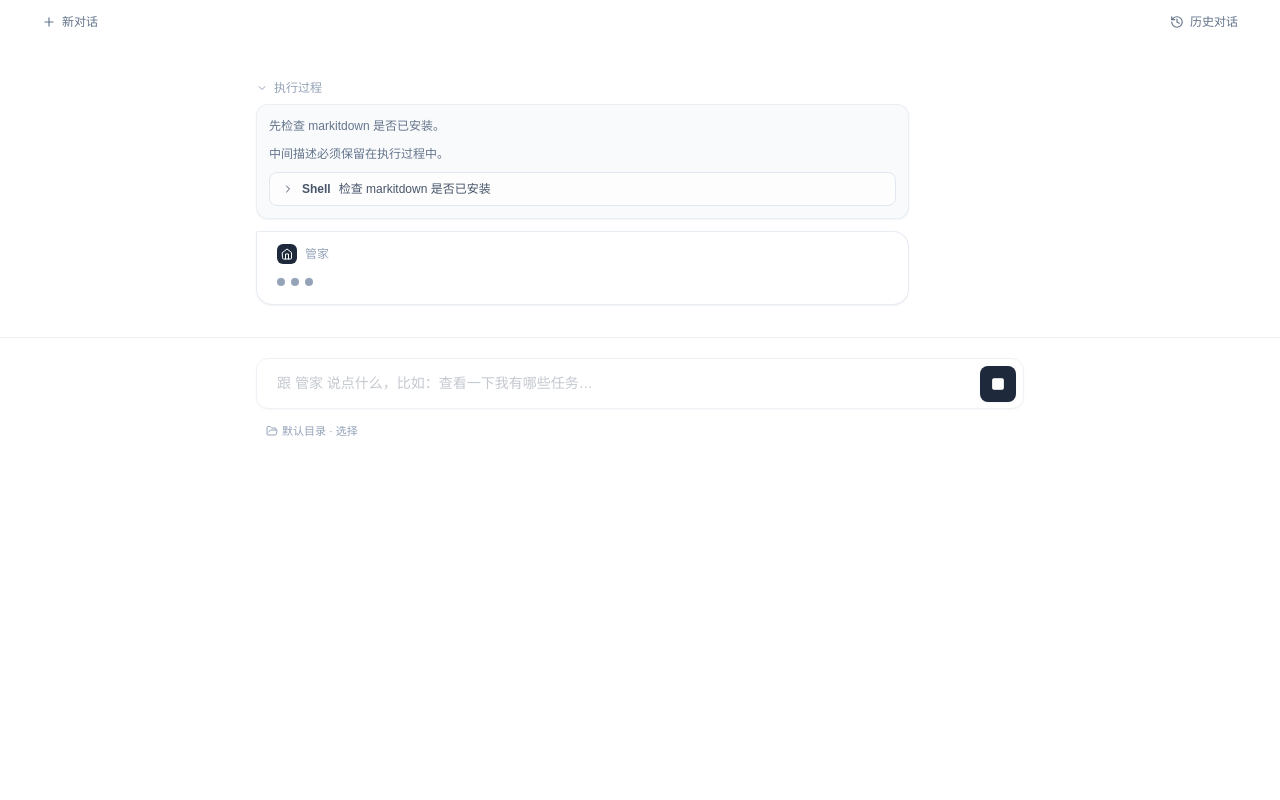
Test: ChatStream conversation initialization (Story 2.2 AC-2 / AC-7) › 流式 processEvent 使用历史执行过程同一格式展示描述和操作
Expected: the button "执行过程" is shown, [256,76,322,100]
Expected: the text "先检查 markitdown 是否已安装。" is shown, [269,119,445,133]
Click the button "Shell 检查 markitdown 是否已安装" at (415, 189), box [270,173,895,205]
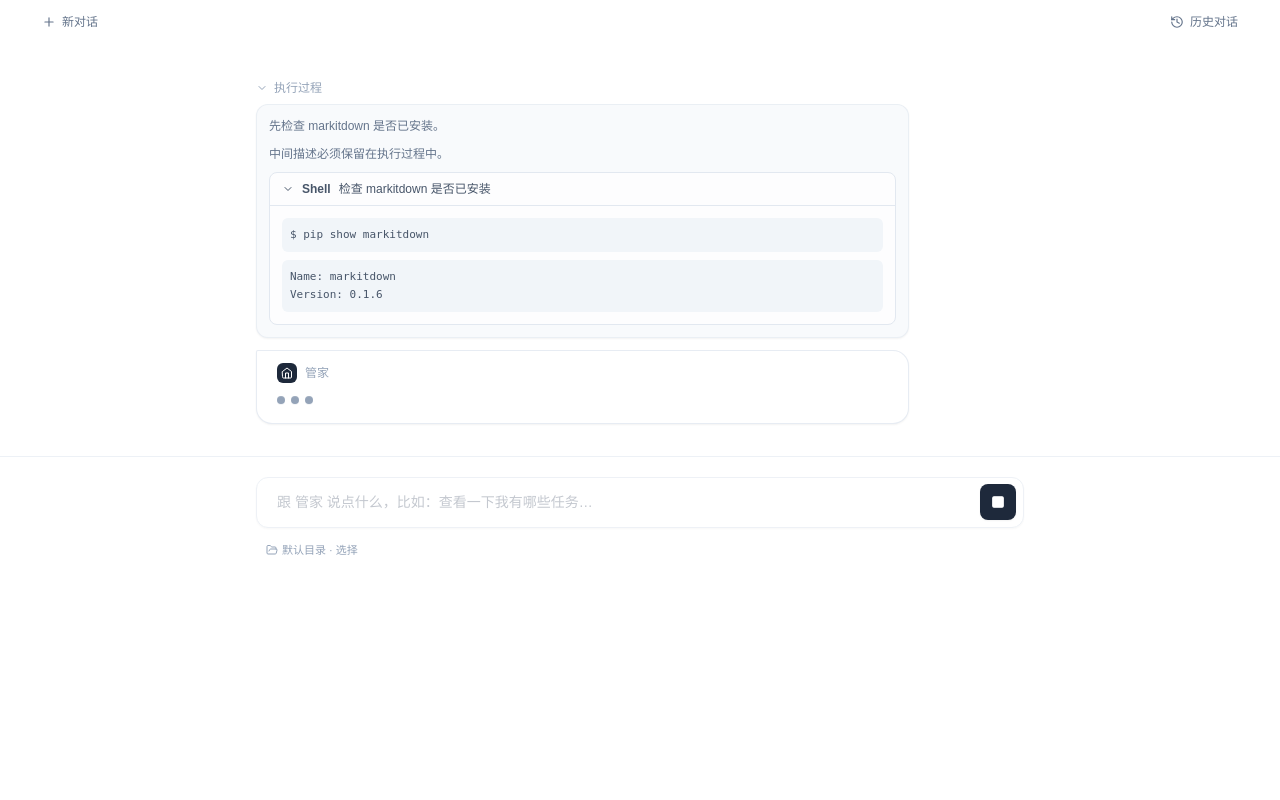
Expected: the text "$ pip show markitdown" is shown, [282,218,883,252]
Expected: the text "Name: markitdown Version: 0.1.6" is shown, [282,260,883,312]
